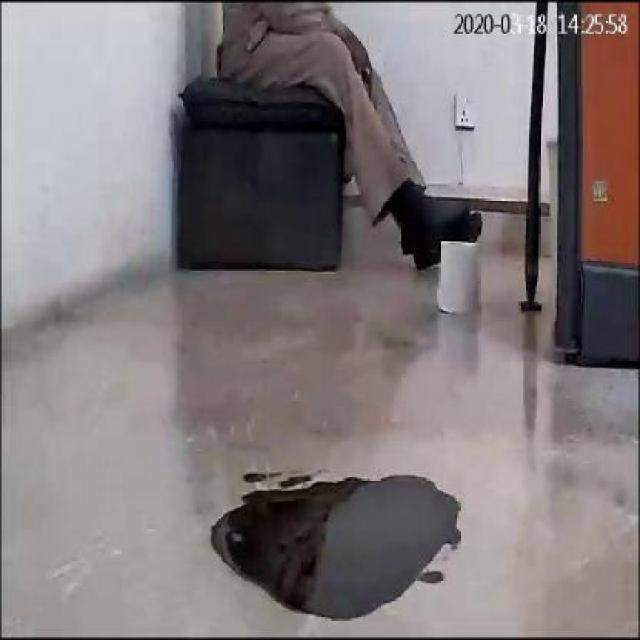spill: (200, 470, 462, 624)
